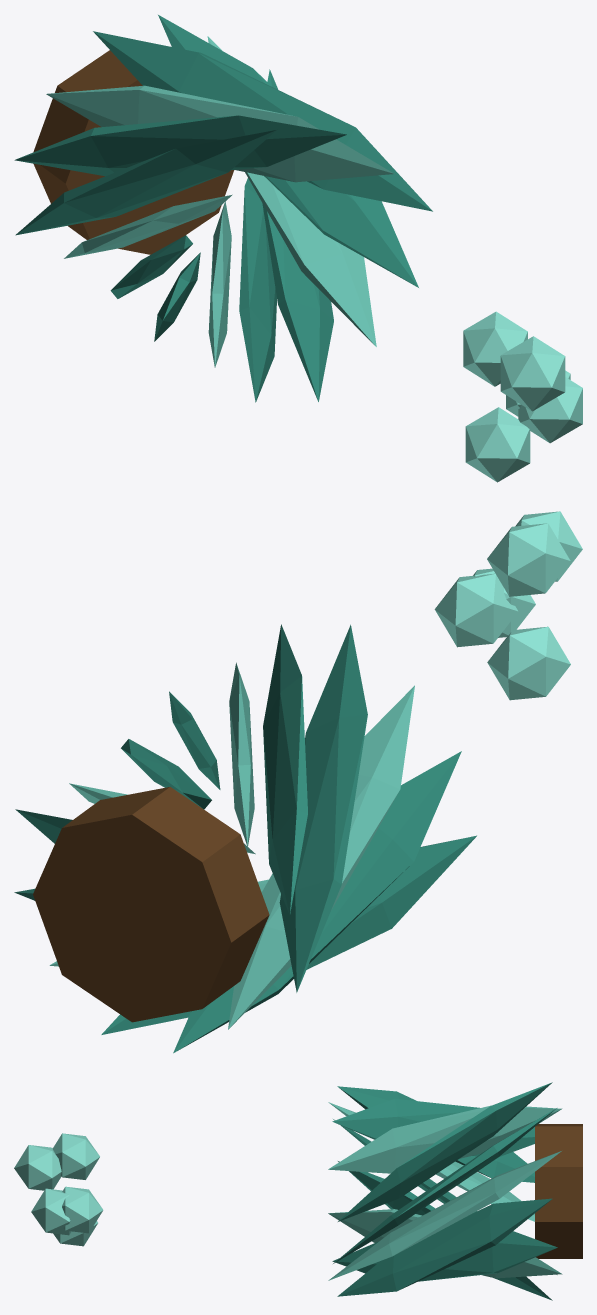
File: 4_mature.obj
3 renders of one model, top to bottom at view 1: azimuth 30°, elevation 25°; view 2: azimuth 150°, elevation 25°; view 3: azimuth 270°, elevation 25°, orthographic. The views are drawn at different scales.
Visible parts, largest first — view 1: marrentill_4_mature; view 2: marrentill_4_mature; view 3: marrentill_4_mature.
Boxes of the visible parts, x1,y1,x2,y2 form: marrentill_4_mature: [14, 15, 582, 482]; marrentill_4_mature: [14, 511, 582, 1053]; marrentill_4_mature: [14, 1082, 582, 1300].
Bounding box in the file's own units: 0.1808 × 0.1808 × 0.4745.
